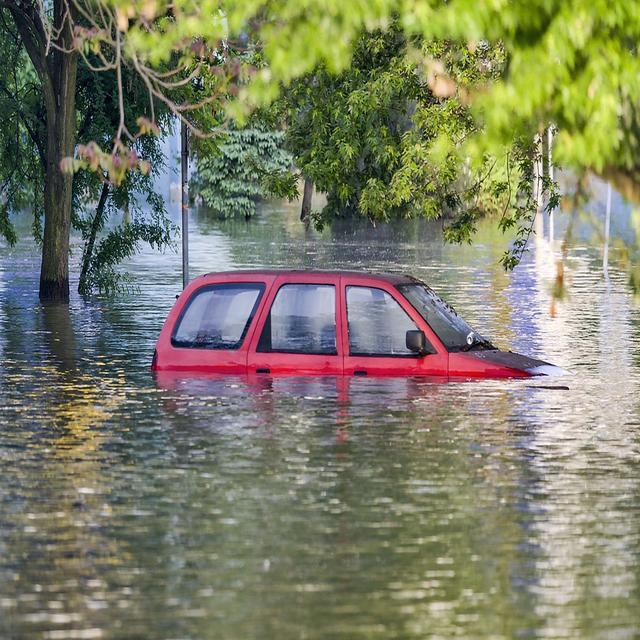Car-RiskLevel3: (150, 257, 574, 393)
